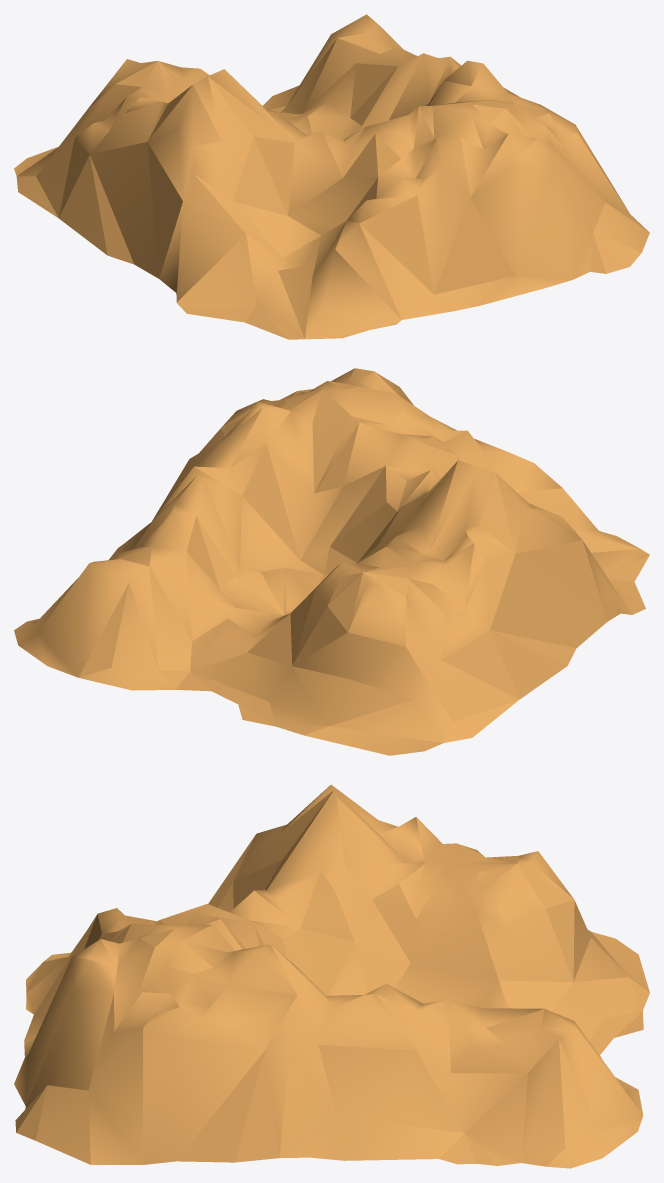
The model's file is BigRock2.gltf.
The picture shows the model from 3 angles, top to bottom: view 1: azimuth 30°, elevation 25°; view 2: azimuth 150°, elevation 25°; view 3: azimuth 270°, elevation 25°; orthographic projection. The views are drawn at different scales.
Visible parts, largest first — view 1: BigRock2; view 2: BigRock2; view 3: BigRock2.
Boxes of the visible parts, x1=… form: BigRock2: x1=14, y1=14, x2=649, y2=339; BigRock2: x1=14, y1=368, x2=649, y2=755; BigRock2: x1=14, y1=784, x2=649, y2=1168.
Bounding box in the file's own units: 0.2366 × 0.0877 × 0.2592.
